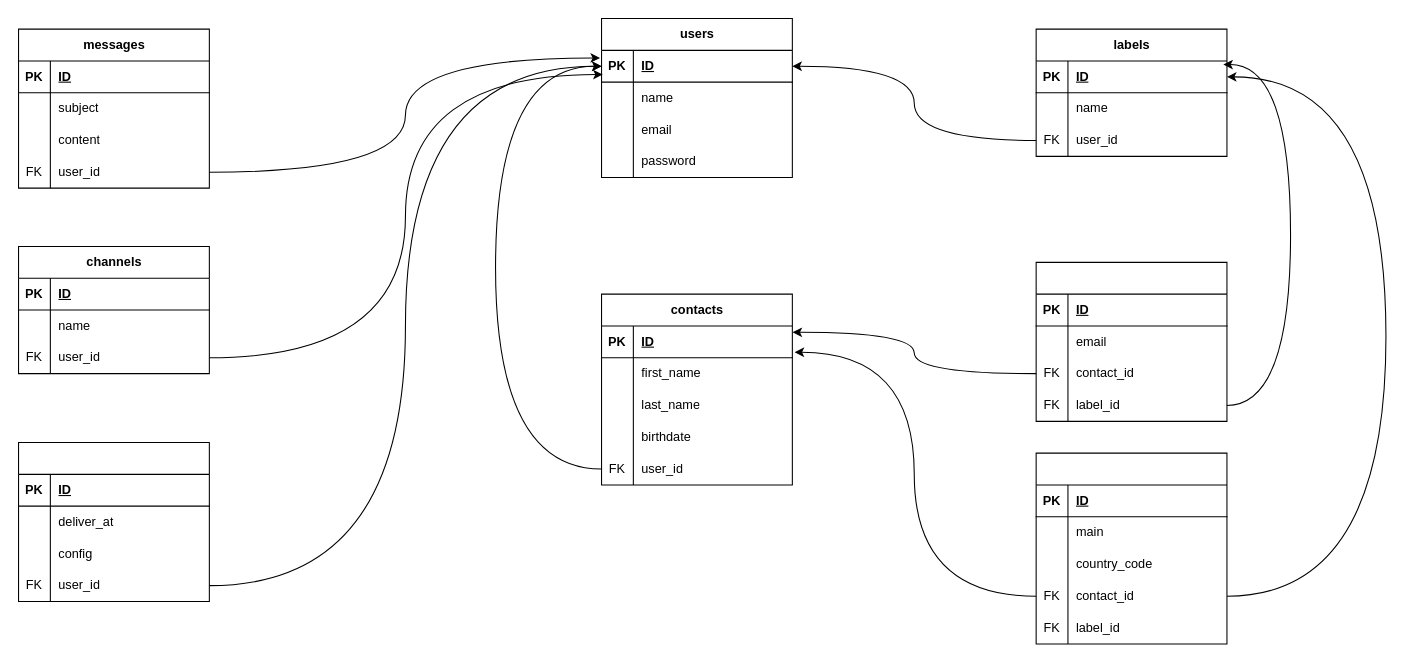
The diagram is 1404 pixels wide and 662 high, and some of its shapes have lost their labels. Here are the shapes that lost their labels. From the top down, the box of each, then its label:
(1035, 261, 1227, 421): email_addresses
(17, 441, 209, 602): deliveries
(1035, 452, 1227, 644): phone_numbers
